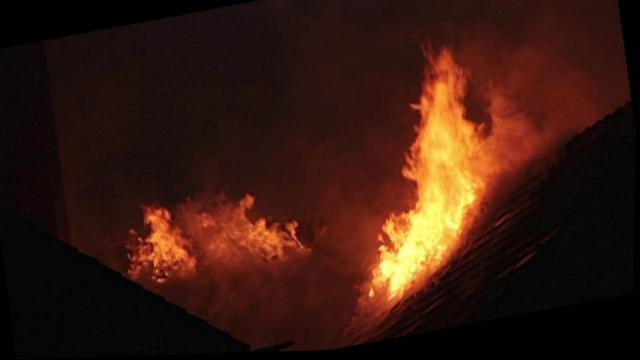fire: (76, 6, 575, 357)
